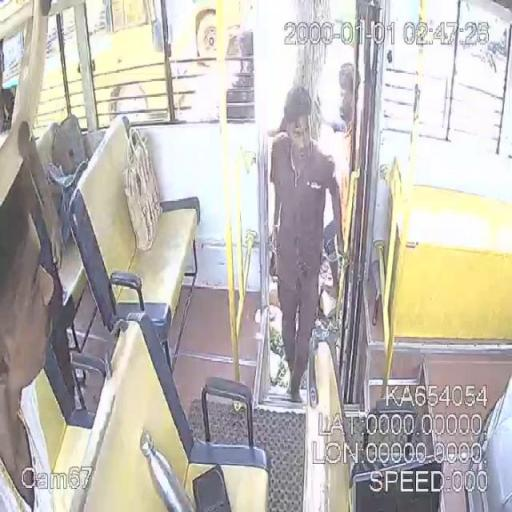persona: (268, 85, 346, 403)
